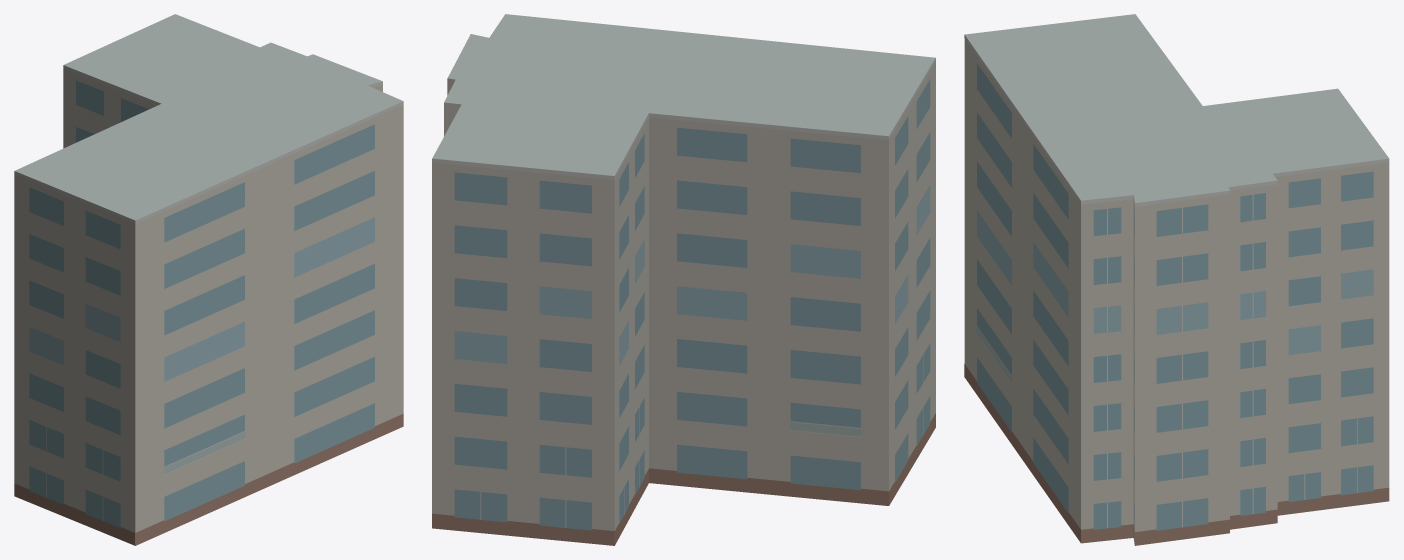
File: survey-upis-32999488.glb
3 renders of one model, left to right at view 1: azimuth 30°, elevation 25°; view 2: azimuth 150°, elevation 25°; view 3: azimuth 270°, elevation 25°, orthographic. The views are drawn at different scales.
Visible parts, largest first — view 1: survey-upis-32999488.tmp; view 2: survey-upis-32999488.tmp; view 3: survey-upis-32999488.tmp.
Boxes of the visible parts, bbox=[...] form: survey-upis-32999488.tmp: bbox=[14, 14, 403, 545]; survey-upis-32999488.tmp: bbox=[432, 14, 935, 545]; survey-upis-32999488.tmp: bbox=[964, 14, 1389, 545].
Bounding box in the file's own units: 25.83 × 21.8 × 24.5.
